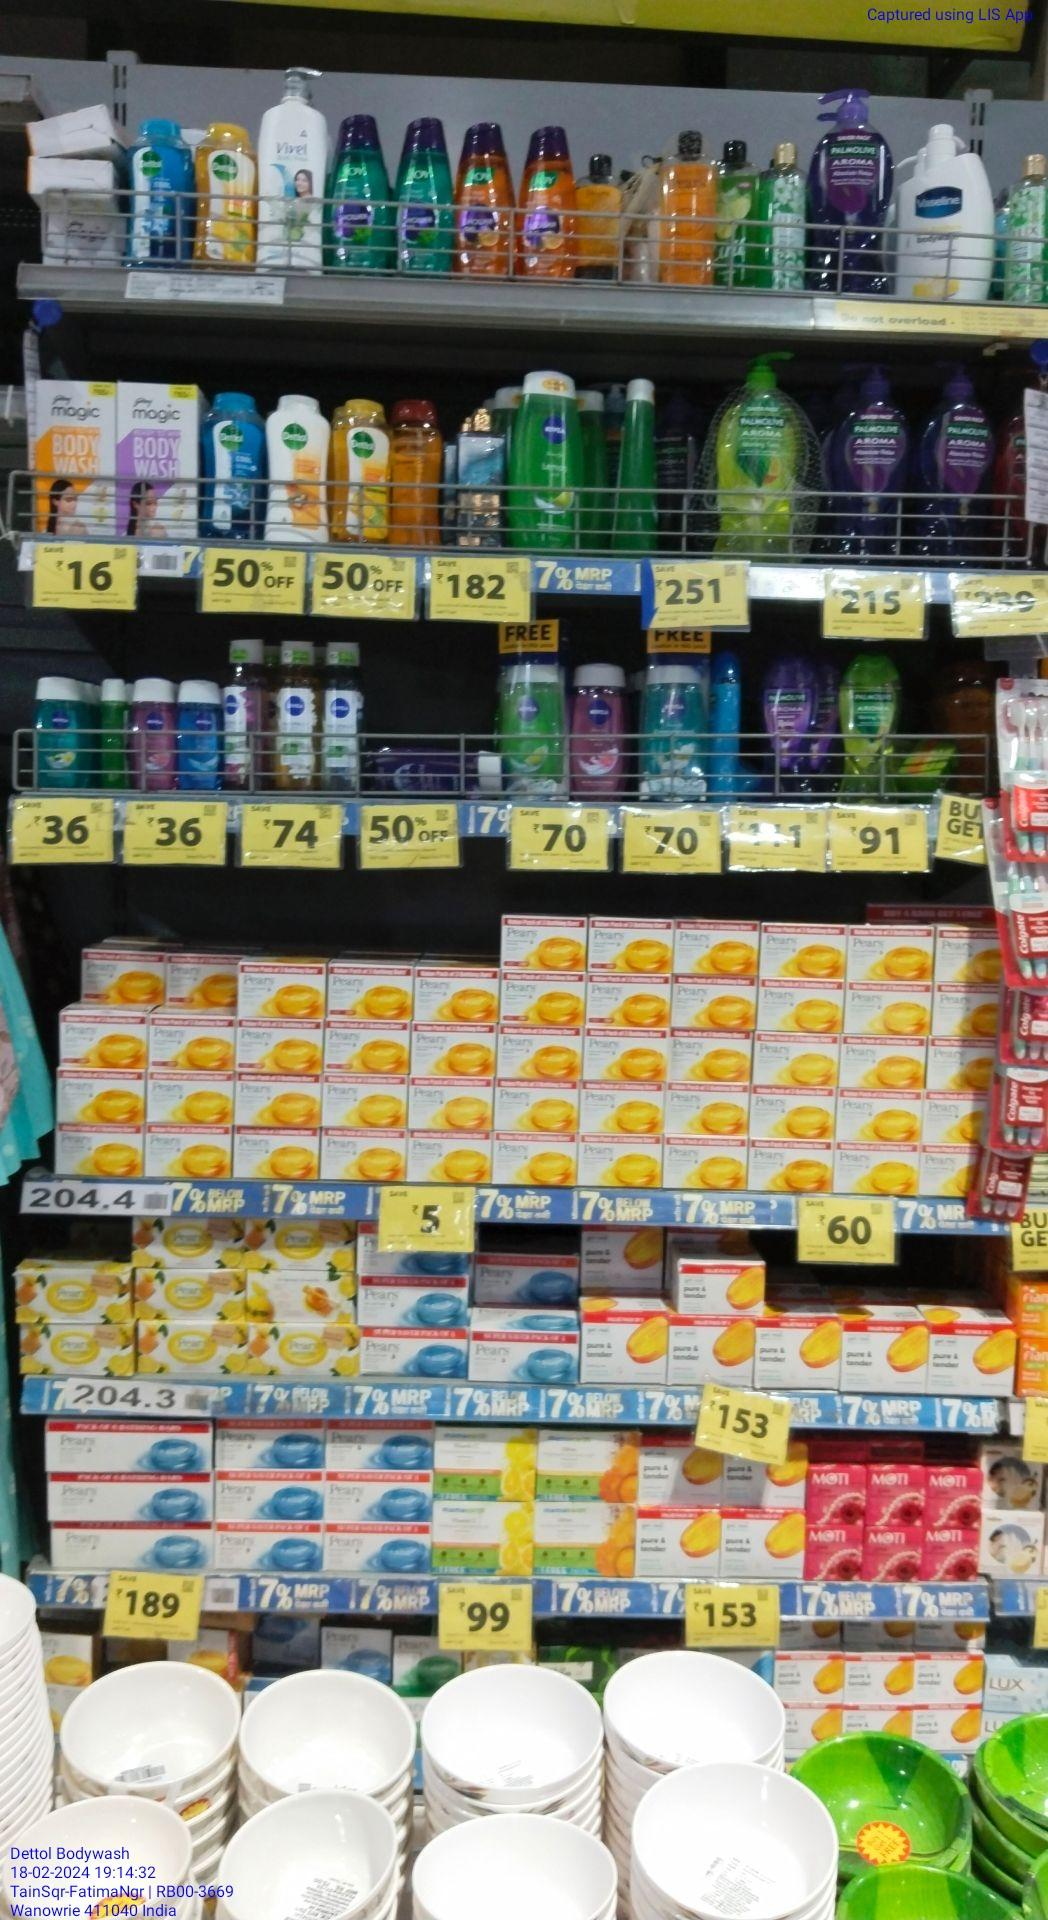Dettol_Bodywash_Cool: (200, 378, 259, 535), (130, 120, 194, 262)
Dettol_Bodywash_Refresh: (333, 395, 390, 543), (199, 128, 256, 271)
Dettol_Nourish_Body_Wash_250ML: (263, 388, 330, 541)
Joy_Shower_Gel_Mandarin_and_Lemongrass_250ML: (457, 120, 516, 277), (519, 120, 572, 277)
Joy_Shower_Gel_Mint_and_Eucalyptus_250ML: (327, 114, 392, 274), (396, 116, 453, 277)
Lux_Body_Wash_Skin_Detox_Freesia_Scent_and_Alove_Vera_245ML: (761, 143, 809, 292), (1005, 152, 1048, 302)
Nivea_Shower_Gel_Frangipani_and_Oil_250ML: (23, 674, 80, 790)
Nivea_Shower_Gel_Waterlily_and_Oil_250ML: (568, 662, 629, 796), (130, 677, 174, 790)
Palmolive_Aroma_Morning_Tonic_Shower_Gel_250ML: (839, 640, 900, 800)
Palmolive_Aroma_Relax_250ML: (760, 639, 822, 799)
